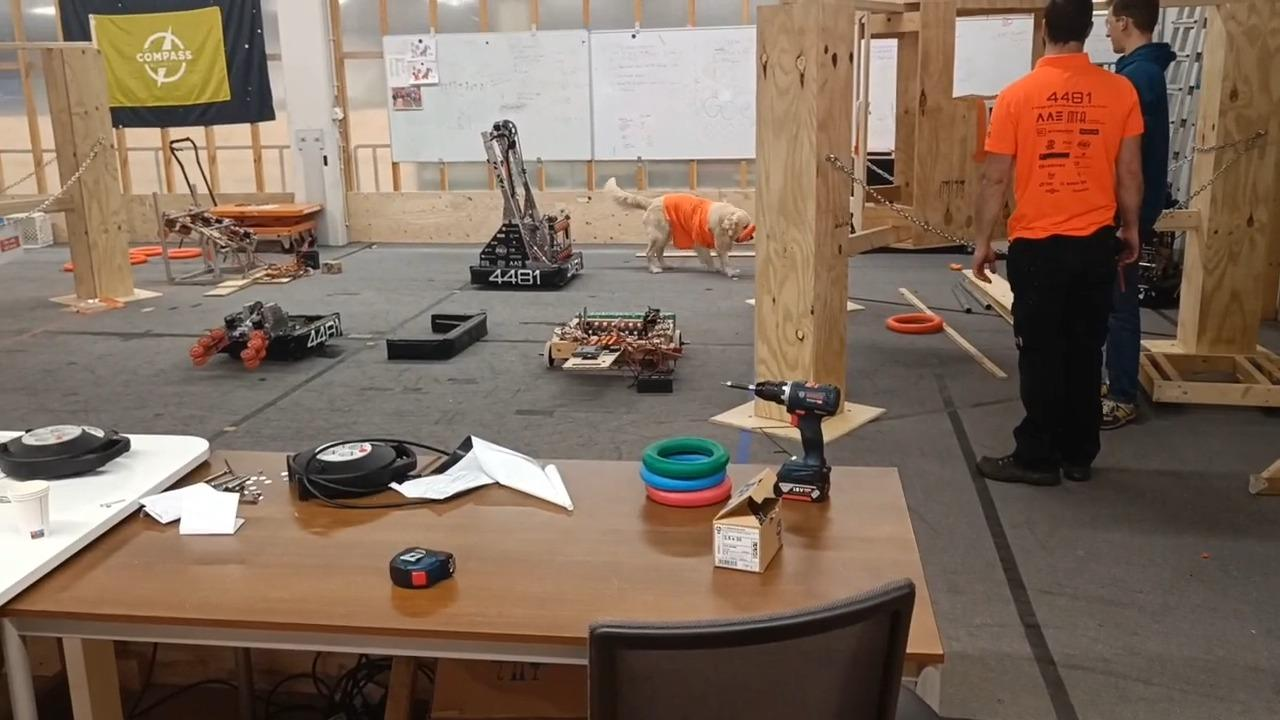robot: (469, 116, 587, 289), (186, 300, 345, 369)
